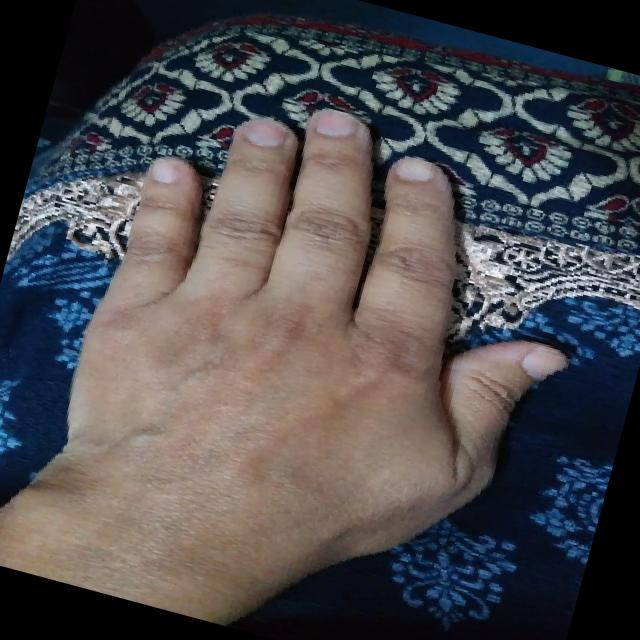Nail: (520, 343, 567, 380), (242, 117, 286, 147), (314, 108, 357, 136), (393, 155, 434, 181), (149, 156, 182, 183)
